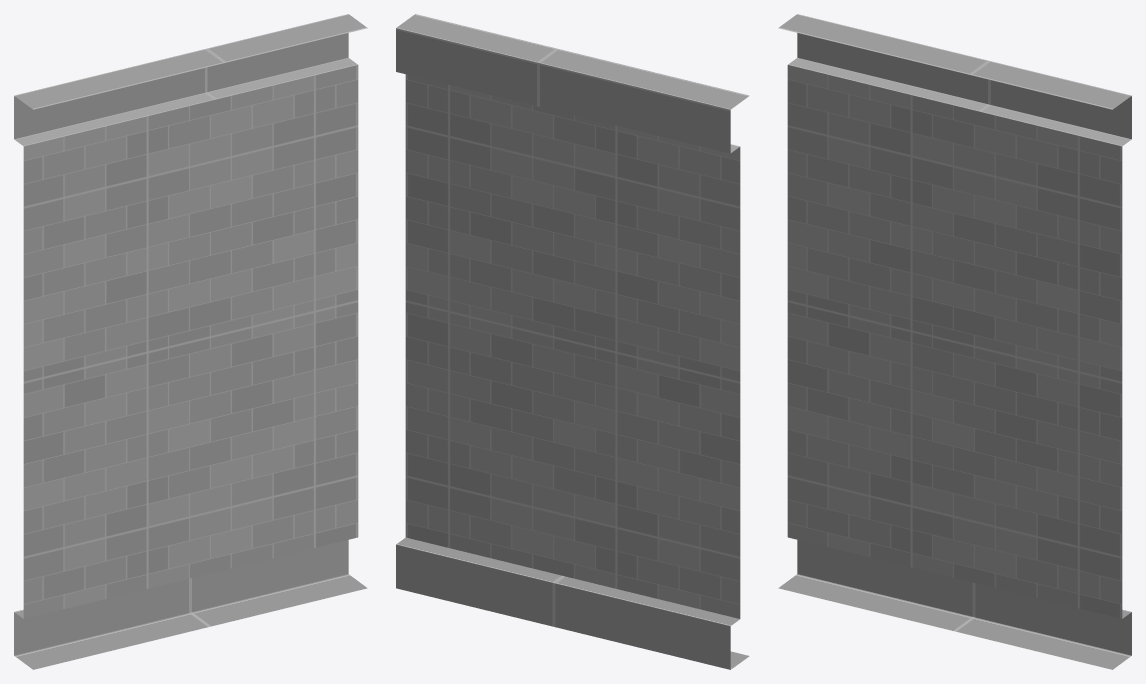
The model's file is proto_wall_01.fbx.
3 views of the same model, side by side, from view 1: azimuth 30°, elevation 25°; view 2: azimuth 150°, elevation 25°; view 3: azimuth 330°, elevation 25° (orthographic).
Visible parts, largest first — view 1: proto_wall_01; view 2: proto_wall_01; view 3: proto_wall_01.
Boxes of the visible parts, bbox=[...] form: proto_wall_01: bbox=[14, 14, 367, 669]; proto_wall_01: bbox=[396, 14, 749, 669]; proto_wall_01: bbox=[778, 14, 1131, 669].
Bounding box in the file's own units: 200 × 320 × 20.
